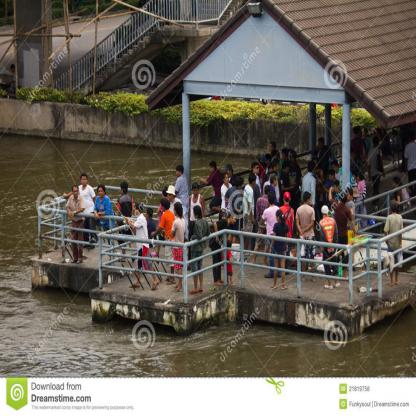face: (99, 188, 105, 198), (74, 188, 80, 198), (167, 192, 173, 201), (255, 166, 261, 174), (82, 177, 87, 186), (332, 164, 337, 173), (314, 161, 319, 170), (193, 190, 199, 197), (210, 166, 214, 175), (226, 175, 230, 184), (393, 180, 397, 189), (351, 153, 355, 162), (228, 169, 233, 176), (329, 175, 334, 182), (233, 217, 237, 225), (270, 145, 274, 153), (347, 194, 351, 201), (177, 170, 180, 178), (136, 207, 139, 215), (292, 157, 296, 163), (267, 159, 271, 165), (319, 142, 323, 148), (335, 185, 338, 193), (223, 215, 227, 221), (162, 205, 165, 212), (174, 210, 177, 217), (194, 212, 197, 219), (277, 164, 280, 171), (283, 153, 286, 160), (277, 215, 280, 222), (253, 179, 256, 186), (287, 168, 290, 174), (363, 131, 366, 137), (358, 175, 361, 180), (121, 188, 123, 195), (310, 198, 312, 205), (276, 179, 278, 186), (393, 134, 396, 137)
